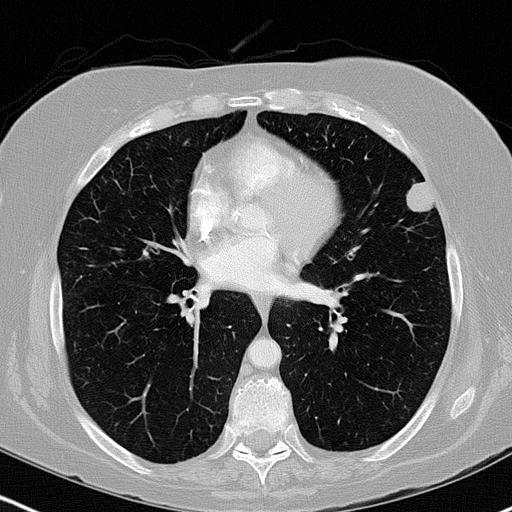nodule: (402, 180, 436, 214)
